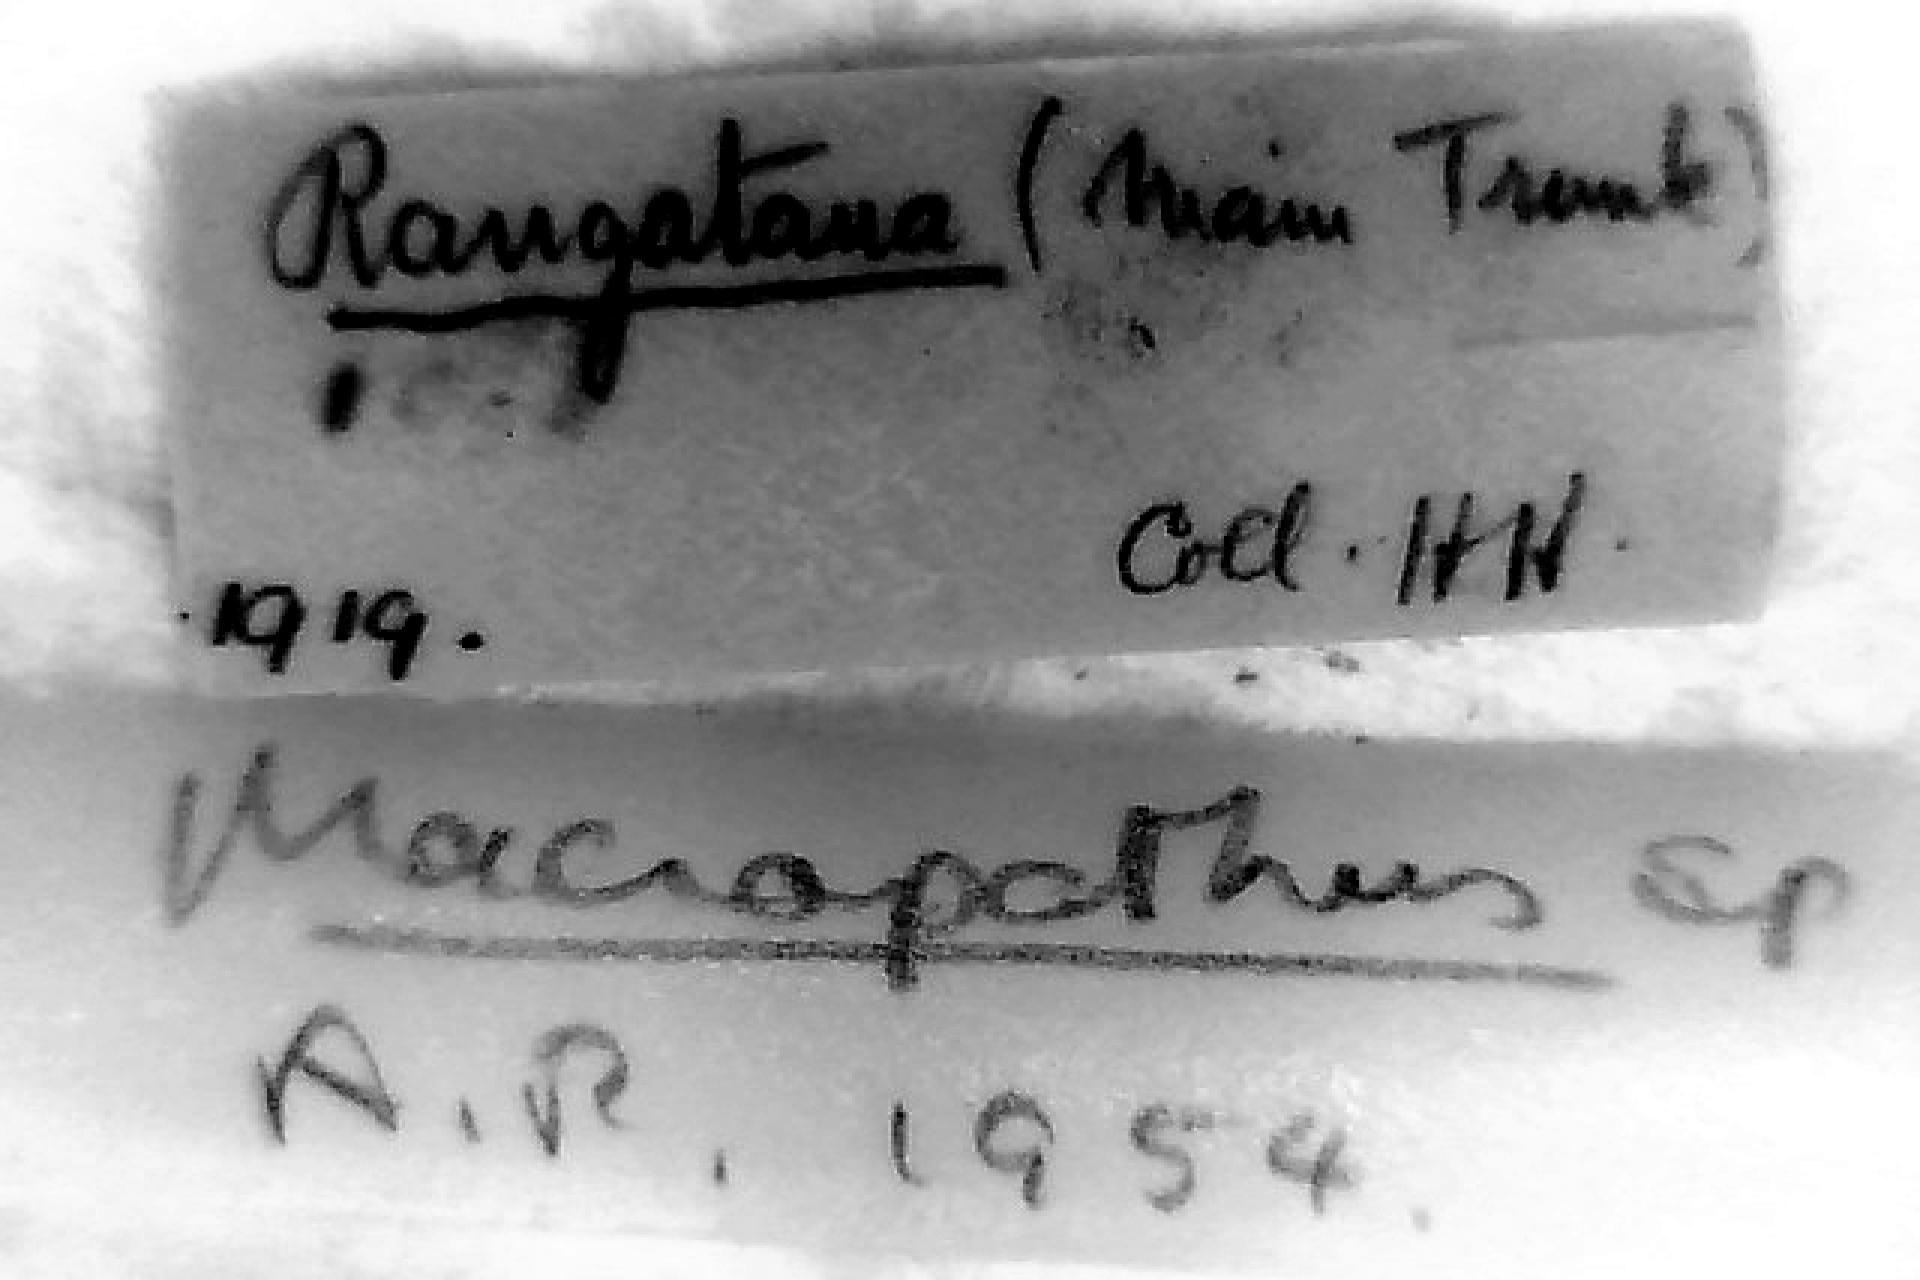hand_label: (0, 700, 1920, 1273), (169, 27, 1781, 693)
